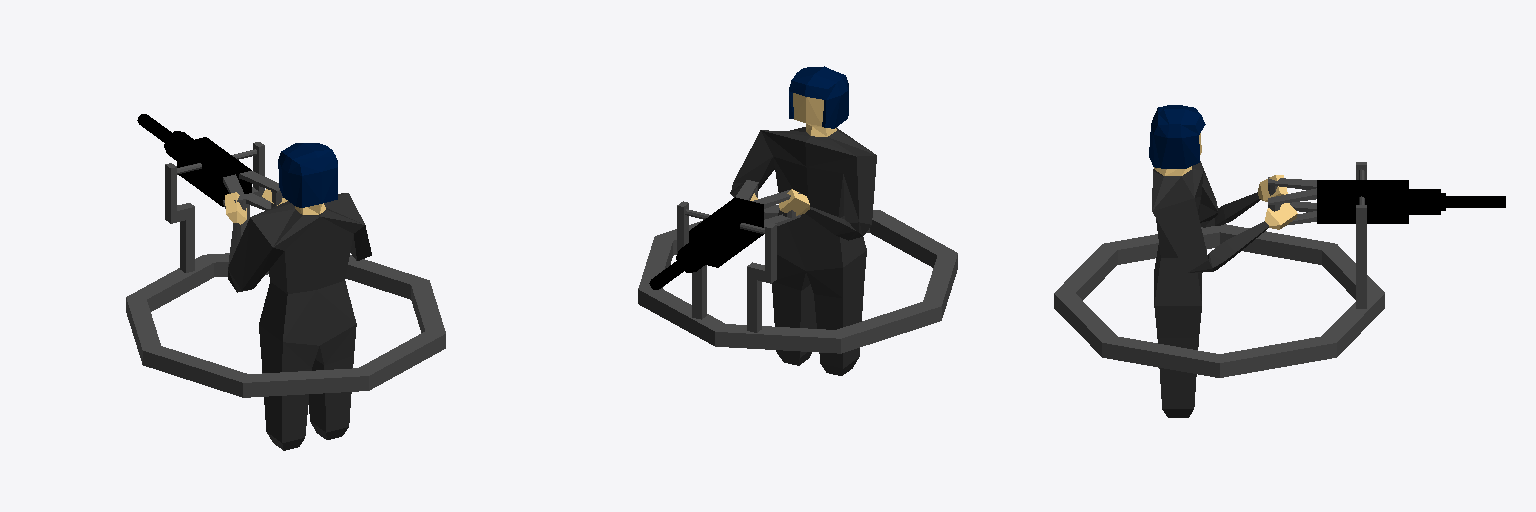
3 views of the same model, side by side, from view 1: azimuth 30°, elevation 25°; view 2: azimuth 150°, elevation 25°; view 3: azimuth 270°, elevation 25° (orthographic).
Visible parts, largest first — view 1: M113-Gun_Circle; view 2: M113-Gun_Circle; view 3: M113-Gun_Circle.
Boxes of the visible parts, <box> form: M113-Gun_Circle: <box>126,114,445,450</box>; M113-Gun_Circle: <box>638,66,957,375</box>; M113-Gun_Circle: <box>1054,105,1505,417</box>.
Bounding box in the file's own units: 1.2 × 1.17 × 1.64.
1 materials, 1 textured.